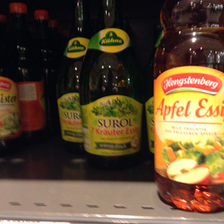vinegar: (154, 1, 224, 215), (84, 2, 146, 166), (57, 1, 87, 158)
